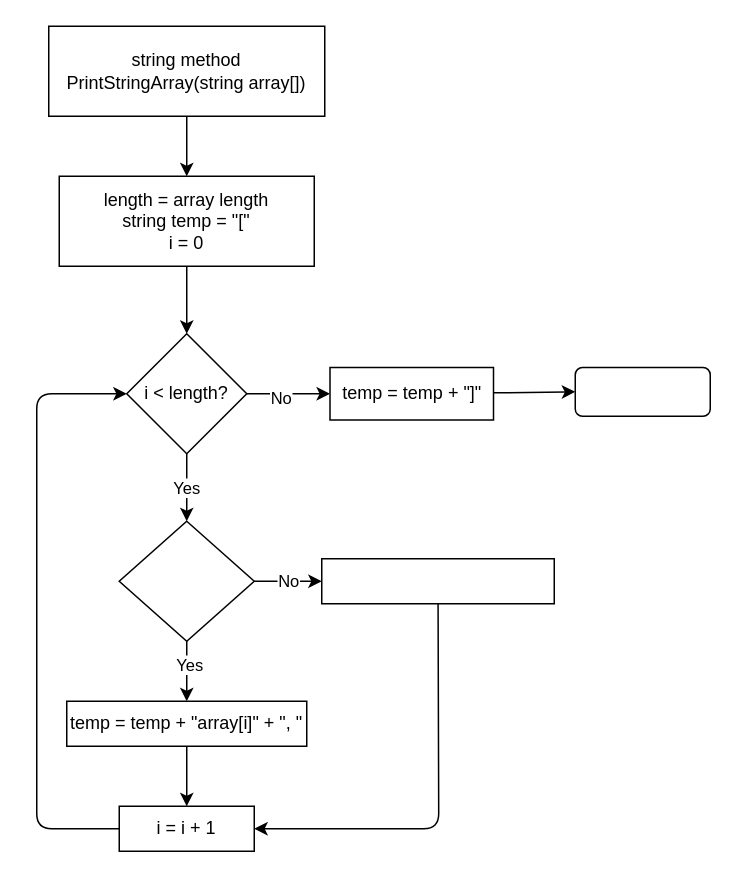
The diagram is 737 pixels wide and 878 high, and some of its shapes have lost their labels. The shapes that lost their labels are listed below. From the top down, each one's box as (x1, y1, x2, y2) in pixels, then its label:
(574, 366, 710, 416): return temp
(118, 520, 254, 641): i < length - 1?
(320, 557, 554, 604): temp =temp + "array[i]"
